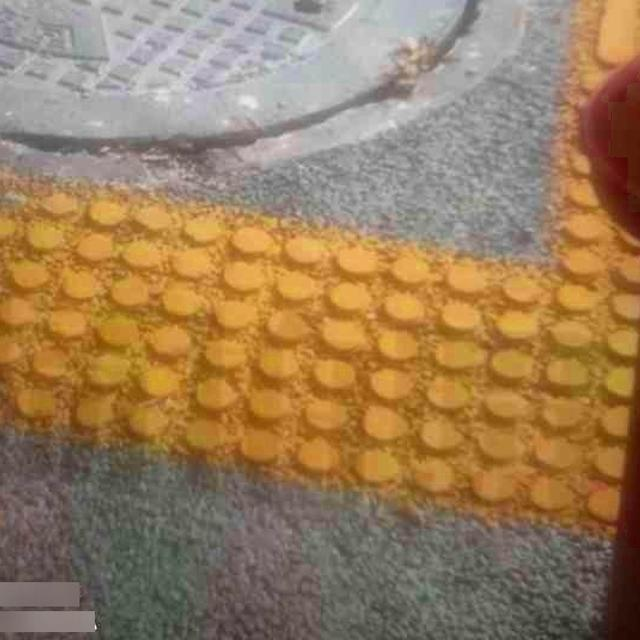good: (0, 0, 536, 180)
